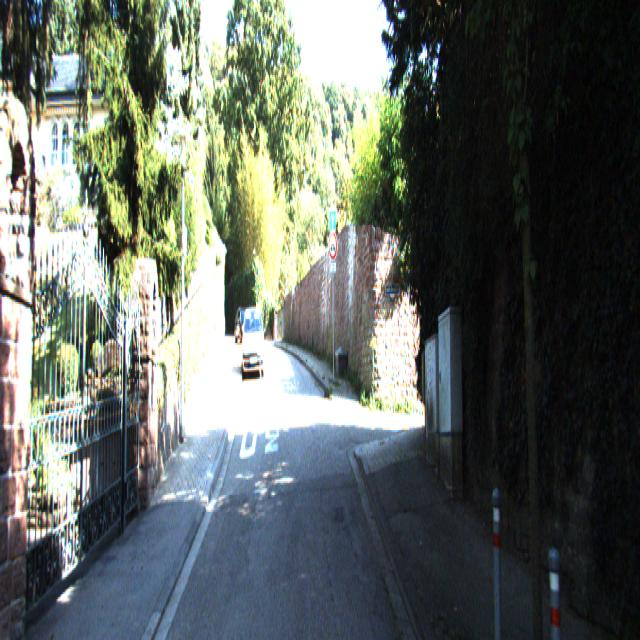Car: (242, 302, 264, 379), (235, 310, 254, 355)
